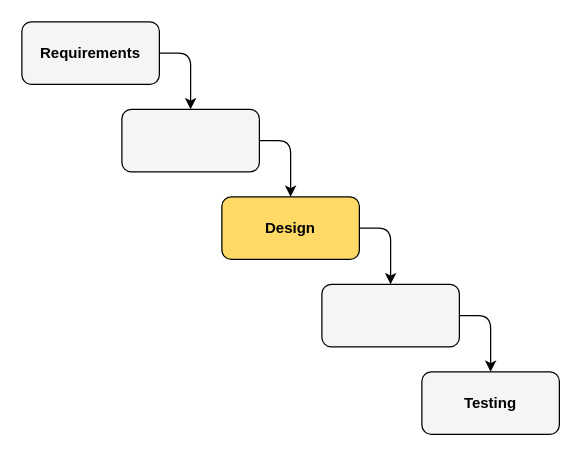
Some shapes in this 581 by 456 pixel diagram are drawn without their labels. Each missing label, with the centre of its shape:
"Analysis" goes at point 190,140.
"Implementation" goes at point 390,315.
